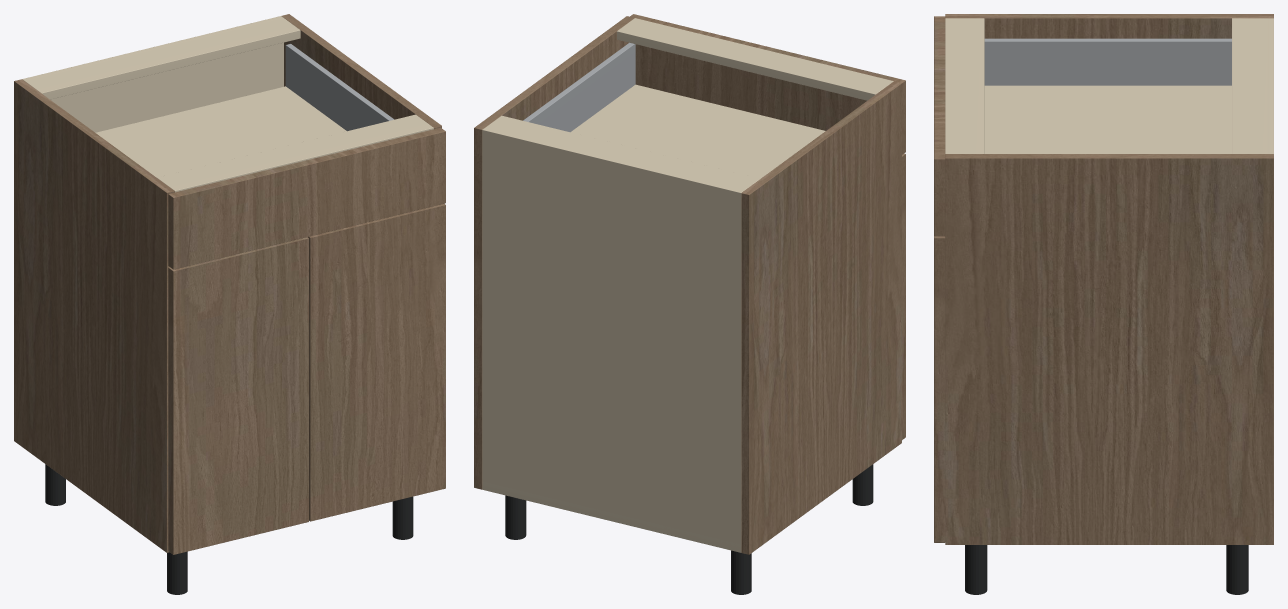
The model's file is oppein-ply-mnw-b24.glb.
The picture shows the model from 3 angles, left to right: view 1: azimuth 30°, elevation 25°; view 2: azimuth 150°, elevation 25°; view 3: azimuth 270°, elevation 25°; orthographic projection. The views are drawn at different scales.
Visible parts, largest first — view 1: Cabinet side, Door, Door.001, Drawer front, Drawer floor, Cabinet back, Top support rail, Top support rail.001, Drawer side.001, Cabinet side.001, Adjustable foot.003, Adjustable foot.001 (+1 smaller); view 2: Cabinet back, Cabinet side, Drawer floor, Drawer front, Top support rail.001, Cabinet side.001, Top support rail, Drawer side.001, Cabinet bottom, Door, Adjustable foot.002, Adjustable foot (+1 smaller); view 3: Cabinet side.001, Drawer floor, Drawer side, Cabinet side, Top support rail.001, Top support rail, Door.001, Drawer front, Adjustable foot.002, Adjustable foot.003, Cabinet back.
Boxes of the visible parts, left/top/right/bottom form: Cabinet side: left=14, top=79, right=174, bottom=552; Door: left=168, top=237, right=308, bottom=554; Door.001: left=307, top=203, right=445, bottom=521; Drawer front: left=168, top=127, right=445, bottom=269; Drawer floor: left=95, top=86, right=346, bottom=177; Cabinet back: left=22, top=16, right=283, bottom=132; Top support rail: left=24, top=18, right=300, bottom=99; Top support rail.001: left=157, top=114, right=433, bottom=192; Drawer side.001: left=285, top=44, right=393, bottom=131; Cabinet side.001: left=281, top=14, right=441, bottom=129; Adjustable foot.003: left=392, top=496, right=413, bottom=539; Adjustable foot.001: left=167, top=551, right=187, bottom=594; Cabinet back: left=482, top=127, right=743, bottom=552; Cabinet side: left=741, top=81, right=901, bottom=554; Drawer floor: left=571, top=84, right=825, bottom=178; Drawer front: left=630, top=14, right=905, bottom=154; Top support rail.001: left=617, top=18, right=893, bottom=100; Cabinet side.001: left=474, top=16, right=634, bottom=489; Top support rail: left=485, top=115, right=760, bottom=190; Drawer side.001: left=523, top=42, right=635, bottom=132; Cabinet bottom: left=482, top=481, right=741, bottom=552; Door: left=902, top=153, right=905, bottom=439; Adjustable foot.002: left=505, top=495, right=526, bottom=539; Adjustable foot: left=731, top=550, right=751, bottom=594; Cabinet side.001: left=945, top=154, right=1273, bottom=544; Drawer floor: left=984, top=85, right=1231, bottom=153; Drawer side: left=984, top=38, right=1231, bottom=85; Cabinet side: left=945, top=14, right=1273, bottom=38; Top support rail.001: left=945, top=18, right=984, bottom=153; Top support rail: left=1232, top=18, right=1267, bottom=153; Door.001: left=934, top=236, right=945, bottom=542; Drawer front: left=934, top=16, right=945, bottom=236; Adjustable foot.002: left=1226, top=545, right=1248, bottom=594; Adjustable foot.003: left=965, top=545, right=987, bottom=594; Cabinet back: left=1267, top=18, right=1273, bottom=153.
Bounding box in the file's own units: 0.6096 × 0.8763 × 0.6064.
Materials: 4 (1 with a texture image).
